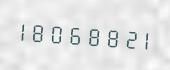eight: (34, 16, 50, 47), (85, 20, 101, 51), (102, 21, 118, 52)
one: (17, 15, 33, 46), (136, 23, 152, 54)
six: (68, 18, 84, 49)
two: (119, 22, 135, 53)
zero: (51, 17, 67, 48)
